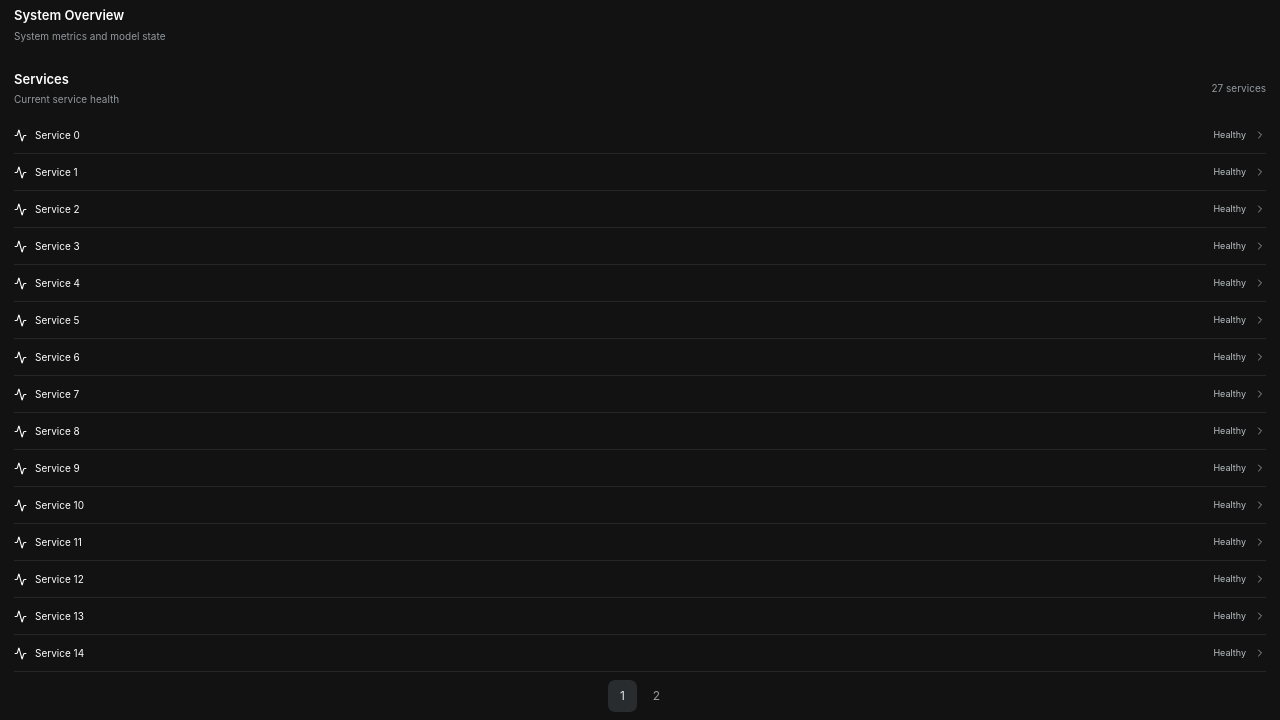
fills available height beyond twelve services and reduces the page count
The width and height of the screenshot is (1280, 720).
(page scrolled)
Expected: the text "Service 14" is shown, [35, 646, 84, 658]
Expected: the text "Service 15" is not shown
Click the button named "Page 2". click: (656,696)
box: [641, 680, 672, 712]
(page scrolled)
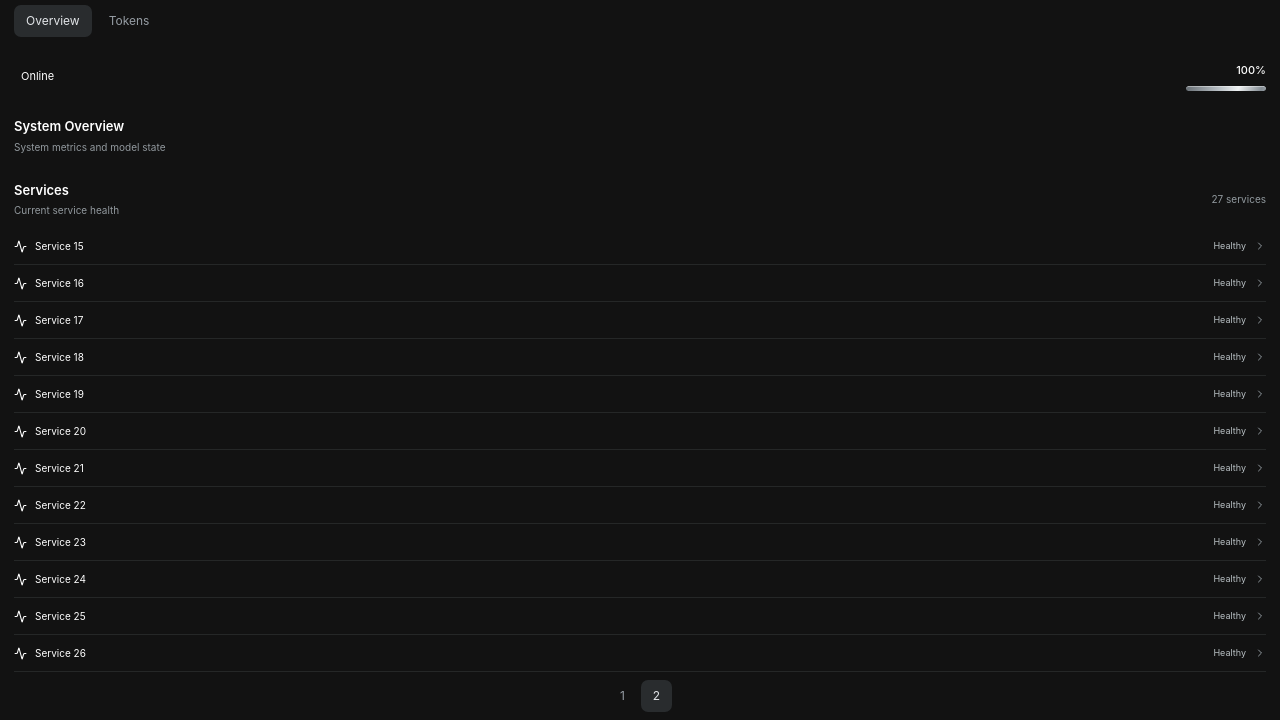
Expected: the text "Service 26" is shown, [35, 646, 86, 658]
